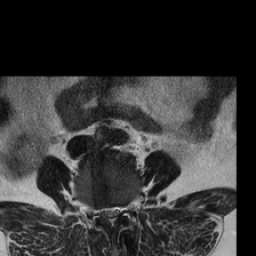CCS_normal: (107, 198, 114, 231)
LFS_stenosis: (120, 196, 127, 220)
LLS_normal: (114, 197, 120, 223)
RFS_stenosis: (92, 199, 100, 224)
RLS_stenosis: (99, 199, 107, 220)
